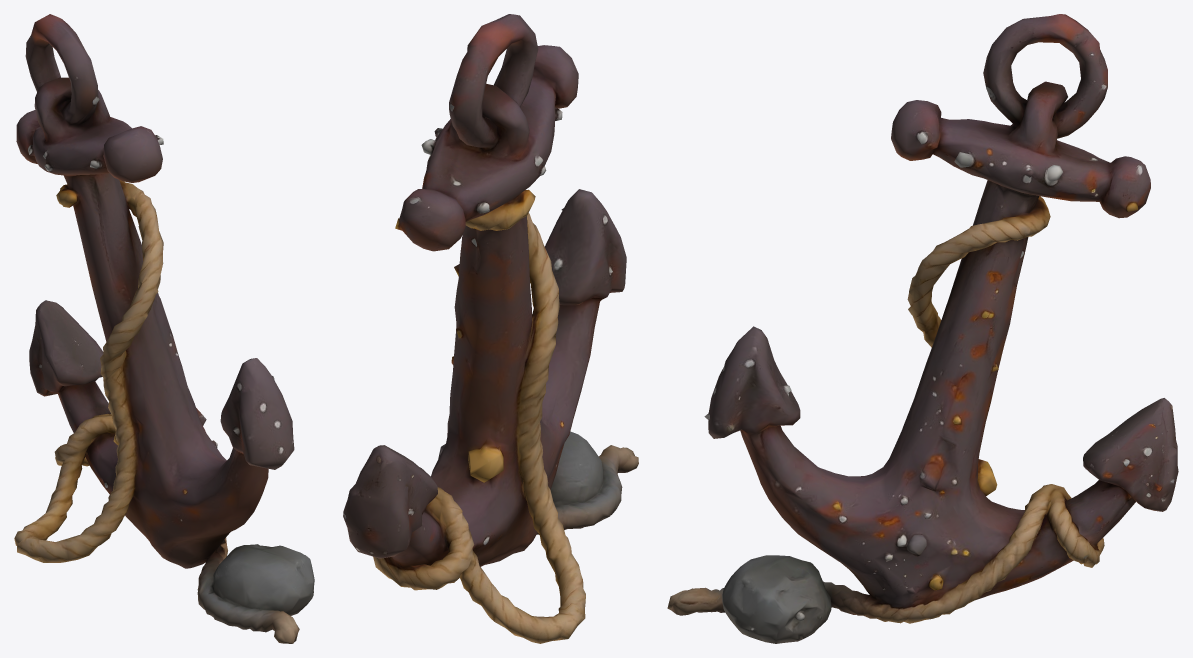
The model's file is old-anchor.glb.
3 renders of one model, left to right at view 1: azimuth 30°, elevation 25°; view 2: azimuth 150°, elevation 25°; view 3: azimuth 270°, elevation 25°, orthographic. The views are drawn at different scales.
Parts seen in each view (by area): view 1: tripo_node_d2ee0b78-f4aa-4cac-a6ec-fc10c6bb4c4f; view 2: tripo_node_d2ee0b78-f4aa-4cac-a6ec-fc10c6bb4c4f; view 3: tripo_node_d2ee0b78-f4aa-4cac-a6ec-fc10c6bb4c4f.
Boxes of the visible parts, x1,y1,x2,y2 form: tripo_node_d2ee0b78-f4aa-4cac-a6ec-fc10c6bb4c4f: (14,14,314,643); tripo_node_d2ee0b78-f4aa-4cac-a6ec-fc10c6bb4c4f: (343,14,638,643); tripo_node_d2ee0b78-f4aa-4cac-a6ec-fc10c6bb4c4f: (667,14,1178,643).
Bounding box in the file's own units: 1.1 × 3 × 2.46.
Materials: 1 (1 with a texture image).
